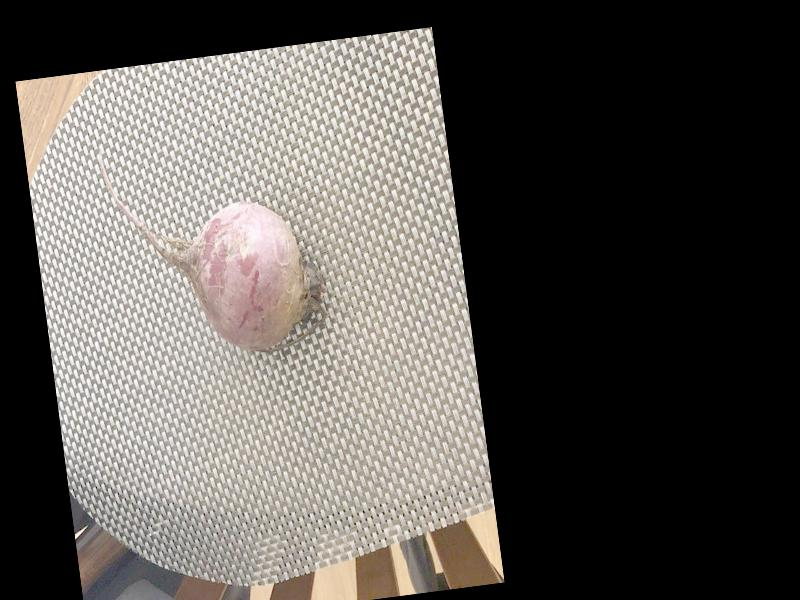Beet: (96, 127, 332, 369)
